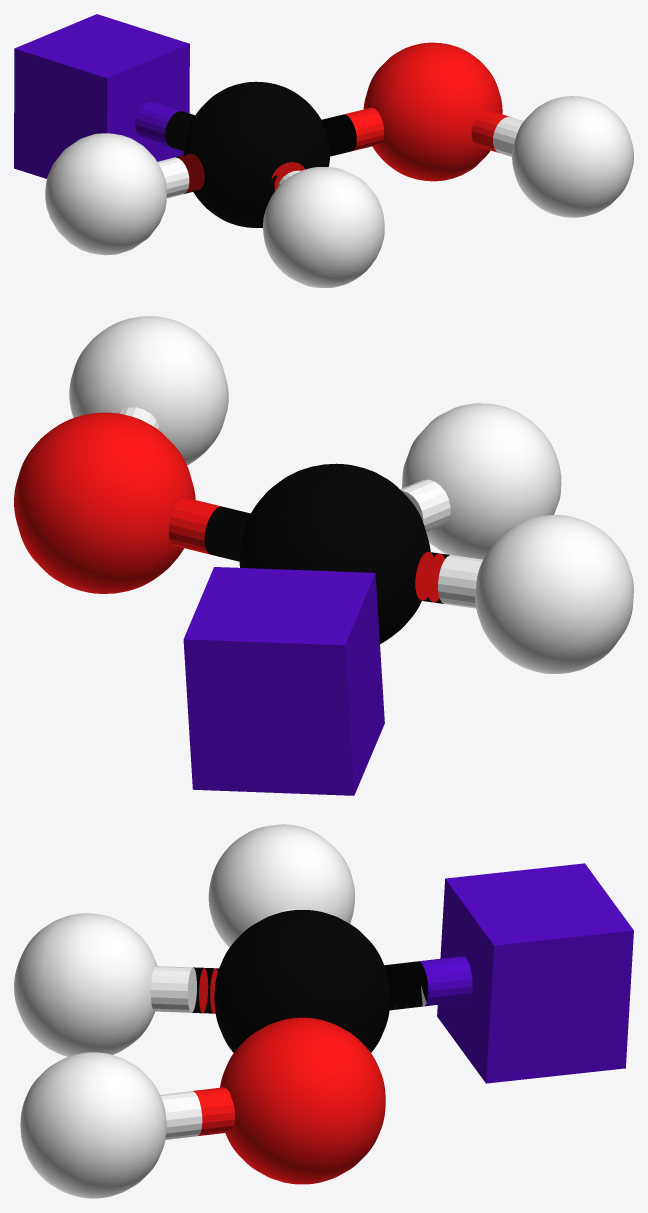
The model's file is alcohol.obj.
The picture shows the model from 3 angles, top to bottom: view 1: azimuth 30°, elevation 25°; view 2: azimuth 150°, elevation 25°; view 3: azimuth 270°, elevation 25°; orthographic projection. The views are drawn at different scales.
Visible parts, largest first — view 1: Cube_Cube.001, Carbon_ball_SurfSphere, Oxygen_ball_SurfSphere.001, Hydrogen_ball_SurfSphere.002.003, Hydrogen_ball_SurfSphere.002.002, Hydrogen_ball_SurfSphere.002.004; view 2: Cube_Cube.001, Oxygen_ball_SurfSphere.001, Hydrogen_ball_SurfSphere.002.004, Carbon_ball_SurfSphere, Hydrogen_ball_SurfSphere.002.003, Hydrogen_ball_SurfSphere.002.002; view 3: Cube_Cube.001, Oxygen_ball_SurfSphere.001, Carbon_ball_SurfSphere, Hydrogen_ball_SurfSphere.002.002, Hydrogen_ball_SurfSphere.002.003, Hydrogen_ball_SurfSphere.002.004, Hydrogen_sticks_cylinder.008_Hydrogen_sticks_cylinder.049, Hydrogen_sticks_cylinder.009_Hydrogen_sticks_cylinder.050, Hydrogen_sticks_cylinder.010_Hydrogen_sticks_cylinder.051, Hydrogen_sticks_cylinder.033, Hydrogen_sticks_cylinder.023, Hydrogen_sticks_cylinder.024 (+7 smaller).
Part boxes in pixels (box(x1,y1,x2,y2)): Cube_Cube.001: box(14, 14, 189, 178); Carbon_ball_SurfSphere: box(183, 81, 329, 227); Oxygen_ball_SurfSphere.001: box(363, 42, 502, 181); Hydrogen_ball_SurfSphere.002.003: box(263, 167, 384, 287); Hydrogen_ball_SurfSphere.002.002: box(512, 96, 633, 217); Hydrogen_ball_SurfSphere.002.004: box(45, 133, 166, 255); Cube_Cube.001: box(183, 567, 384, 795); Oxygen_ball_SurfSphere.001: box(14, 412, 195, 593); Hydrogen_ball_SurfSphere.002.004: box(475, 515, 633, 674); Carbon_ball_SurfSphere: box(239, 463, 430, 643); Hydrogen_ball_SurfSphere.002.003: box(402, 403, 561, 559); Hydrogen_ball_SurfSphere.002.002: box(69, 316, 228, 465); Cube_Cube.001: box(437, 863, 633, 1083); Oxygen_ball_SurfSphere.001: box(220, 1017, 385, 1184); Carbon_ball_SurfSphere: box(214, 910, 390, 1052); Hydrogen_ball_SurfSphere.002.002: box(20, 1052, 166, 1198); Hydrogen_ball_SurfSphere.002.003: box(14, 913, 157, 1056); Hydrogen_ball_SurfSphere.002.004: box(208, 824, 354, 947); Hydrogen_sticks_cylinder.008_Hydrogen_sticks_cylinder.049: box(154, 966, 170, 1011); Hydrogen_sticks_cylinder.009_Hydrogen_sticks_cylinder.050: box(165, 966, 181, 1012); Hydrogen_sticks_cylinder.010_Hydrogen_sticks_cylinder.051: box(176, 967, 192, 1012); Hydrogen_sticks_cylinder.033: box(171, 1092, 191, 1138); Hydrogen_sticks_cylinder.023: box(440, 957, 460, 1003); Hydrogen_sticks_cylinder.024: box(451, 956, 471, 1002).
Size of the model in its own units: 0.9004 by 0.2396 by 0.8141.
